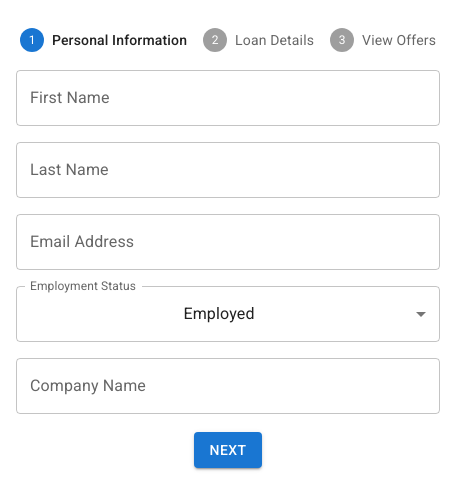
Loan Application › User Details Validation › should validate last name
Type "Doe" into the field named "lastName".
click(228, 170); type("Doe")  # box x1=16 y1=142 x2=440 y2=198
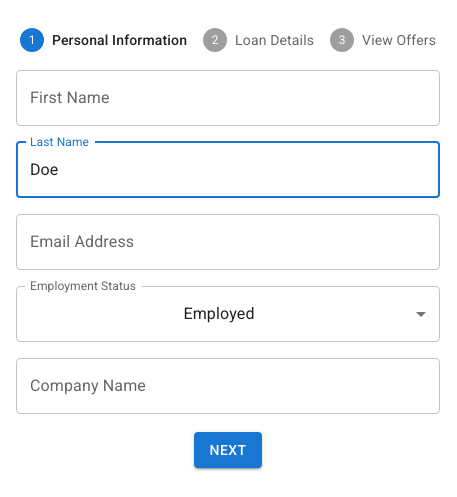
Clear the field named "lastName" at (228, 170), box x1=16 y1=142 x2=440 y2=198
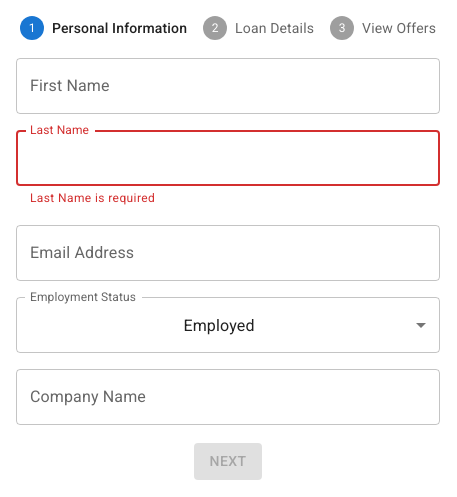
expect the text "Last Name is required" is shown: met, box x1=30 y1=191 x2=155 y2=205
